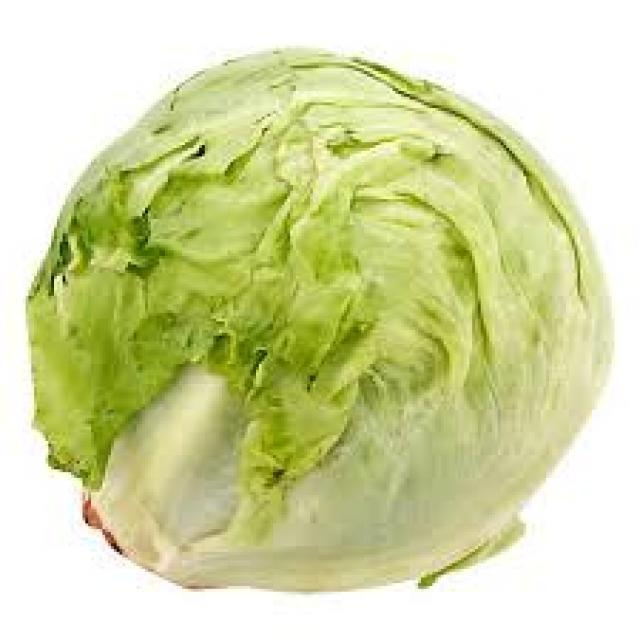Lettuce: (30, 45, 602, 598)
